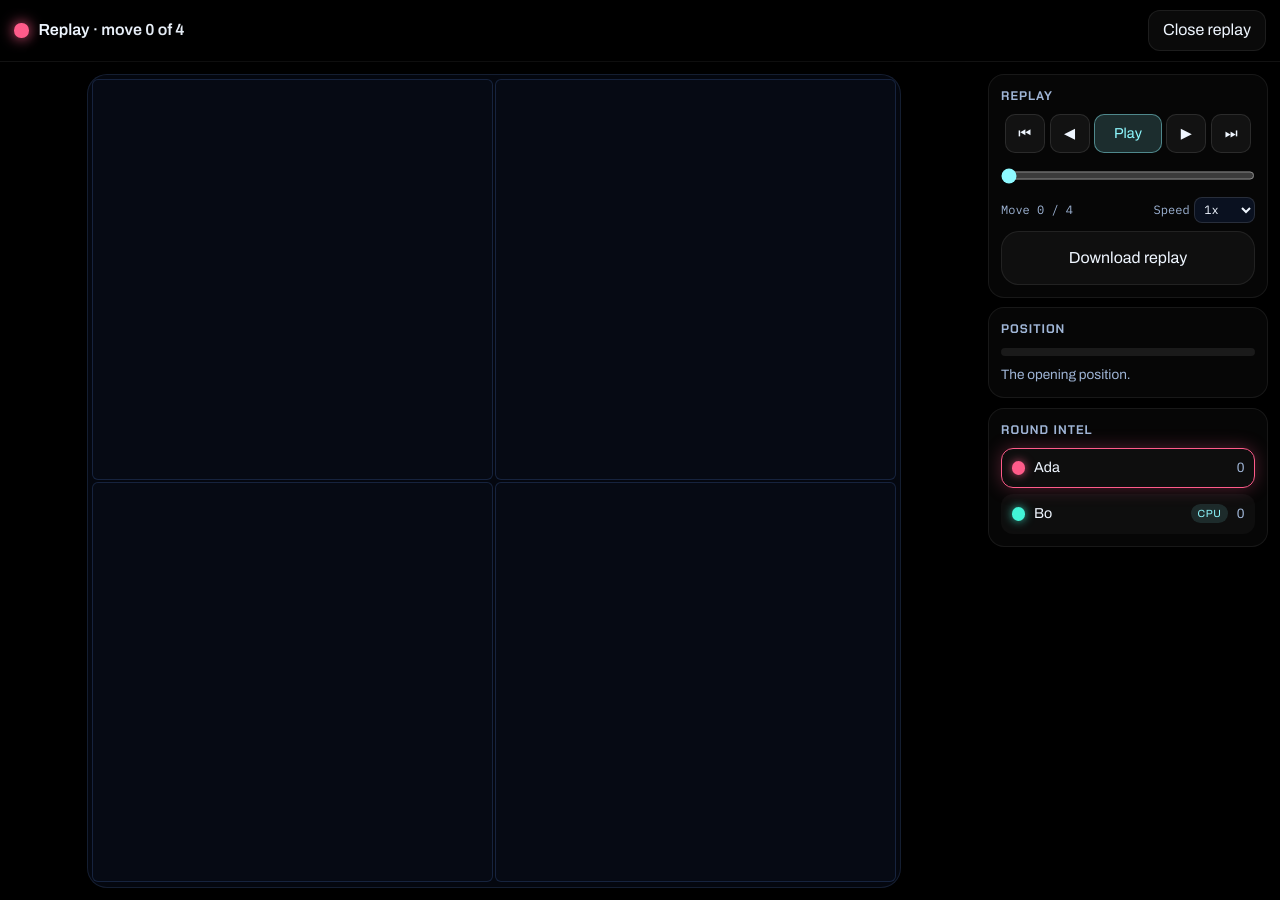
Scenario: ReplayScreen › plays the winner's flourish past the last move and rewinds out of it
What coordinates should you click on to do the following:
click the button named "Jump to the end"
I would click on:
 (1231, 134)
Its box is [1211, 114, 1251, 153].
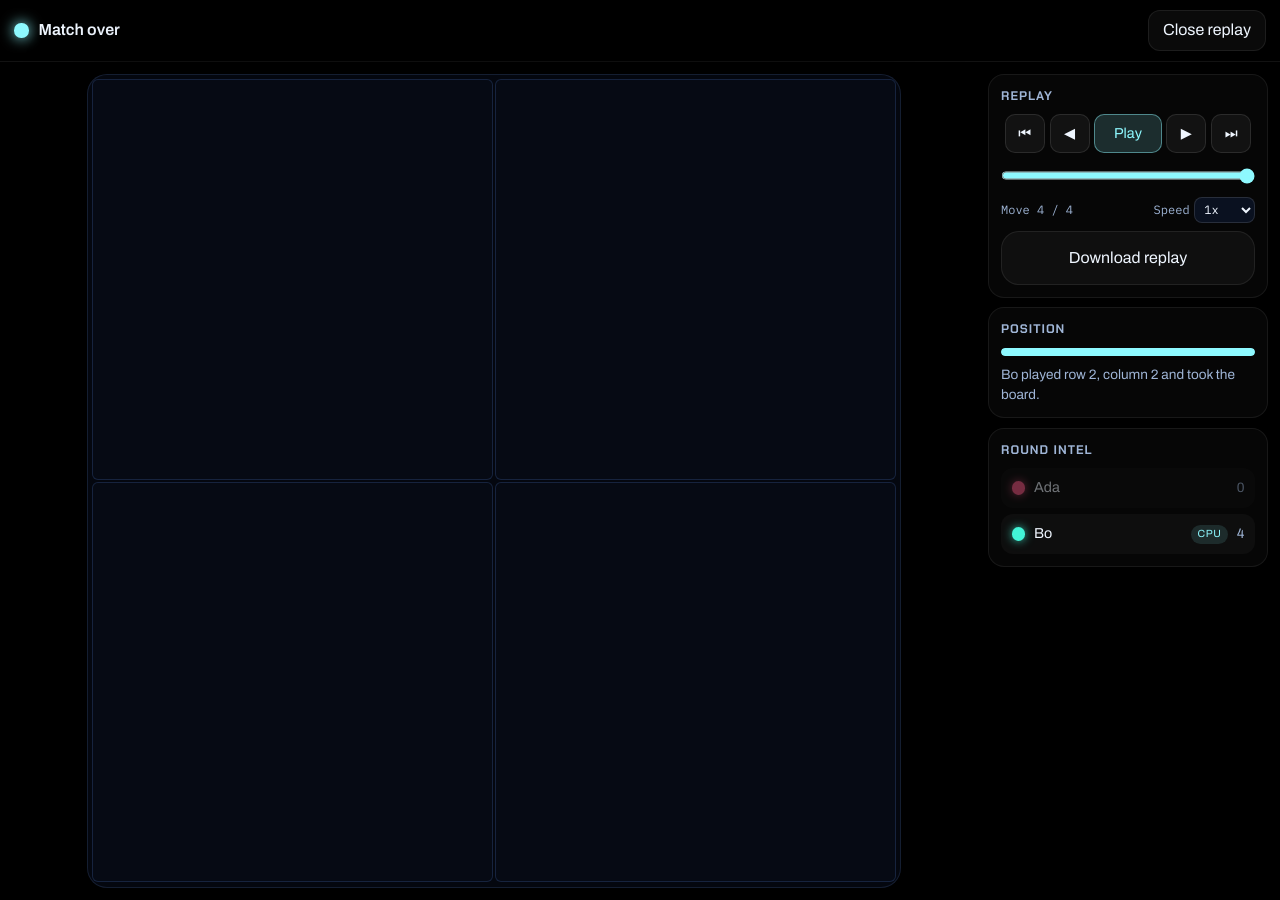
Check: the element with test id "player-row" shows "Bo", box [1034, 525, 1052, 541]
Check: the element with test id "player-row" shows "4", box [1237, 526, 1244, 541]
What coordinates should you click on to do the following:
click the button named "Previous move"
I would click on:
 (1070, 134)
Its box is [1050, 114, 1090, 153].
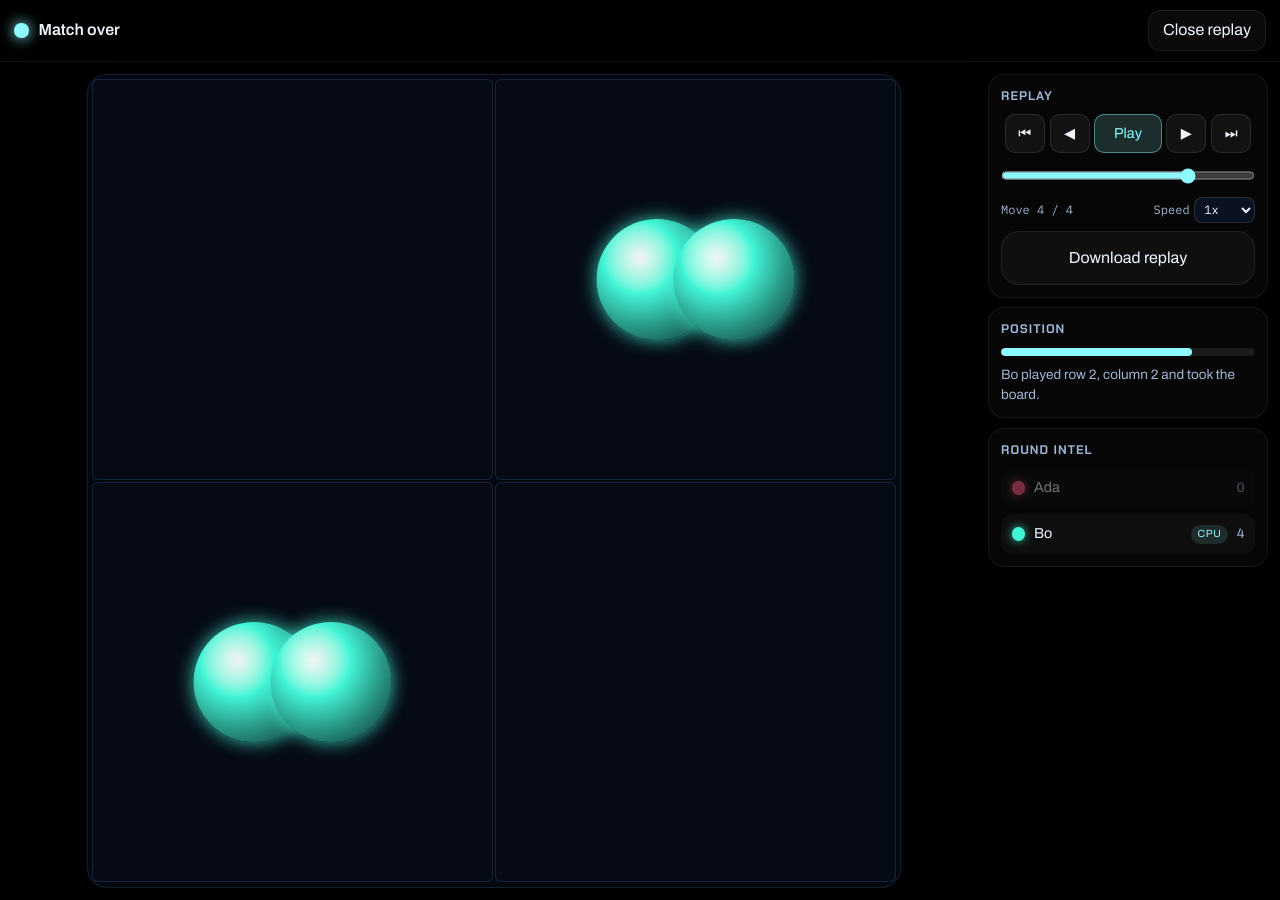
Check: the text with test id "replay-position" reads "Move 4 / 4", box [1001, 201, 1073, 219]
Check: the 1st element with test id "orb" is shown, box [596, 219, 717, 340]
